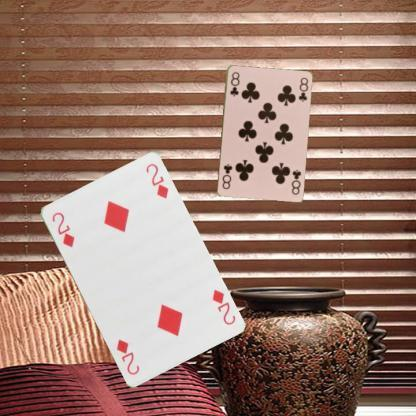2d: (48, 209, 76, 249), (209, 286, 236, 326)
8c: (288, 166, 302, 196), (228, 69, 240, 98)
